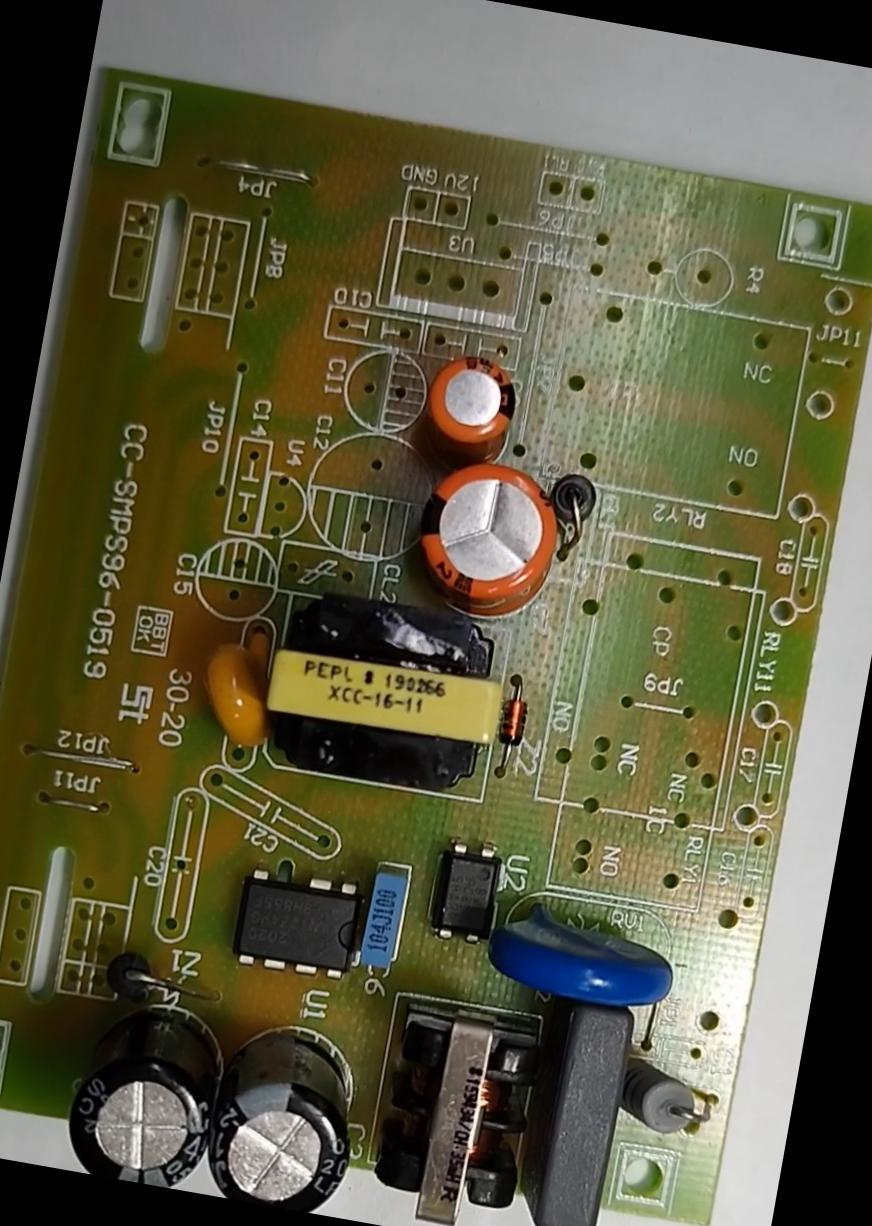Cap1: (383, 439, 584, 638)
Cap2: (400, 330, 534, 471)
Cap3: (181, 1001, 376, 1218)
Cap4: (49, 972, 245, 1194)
MOSFET: (217, 850, 380, 992)
Mov: (469, 882, 693, 1023)
Resistor: (617, 1045, 728, 1157)
Transformer: (226, 570, 530, 810), (356, 988, 555, 1225)
